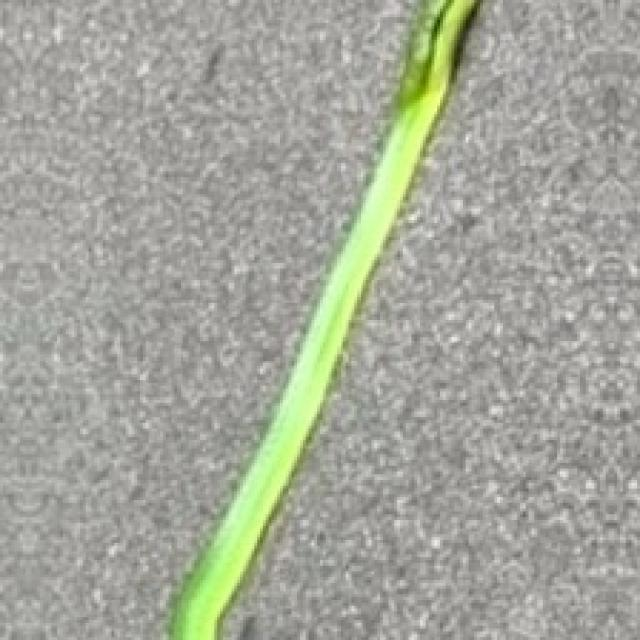red-tailed green ratsnake: (169, 0, 477, 637)
